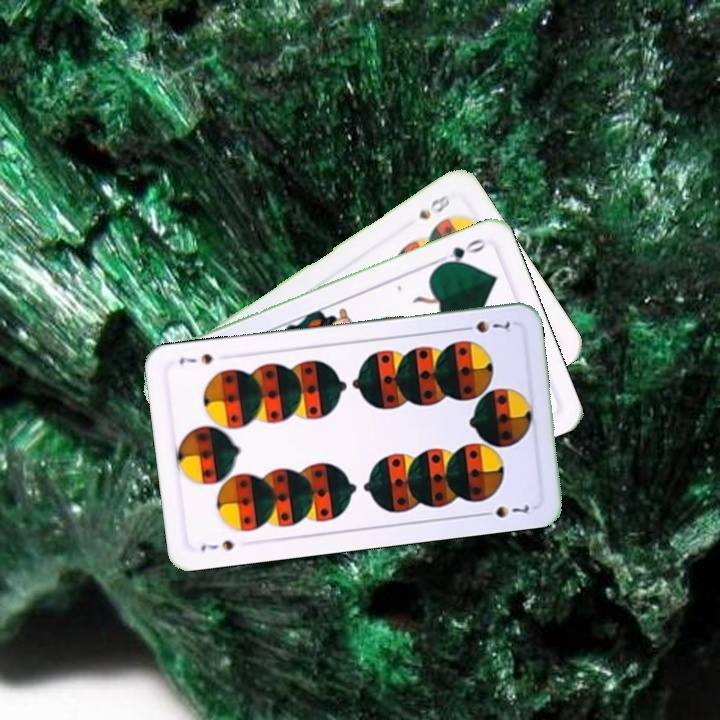GO: (432, 234, 489, 270)
S7: (457, 316, 513, 336), (197, 536, 237, 554)
S8: (414, 190, 453, 222)
